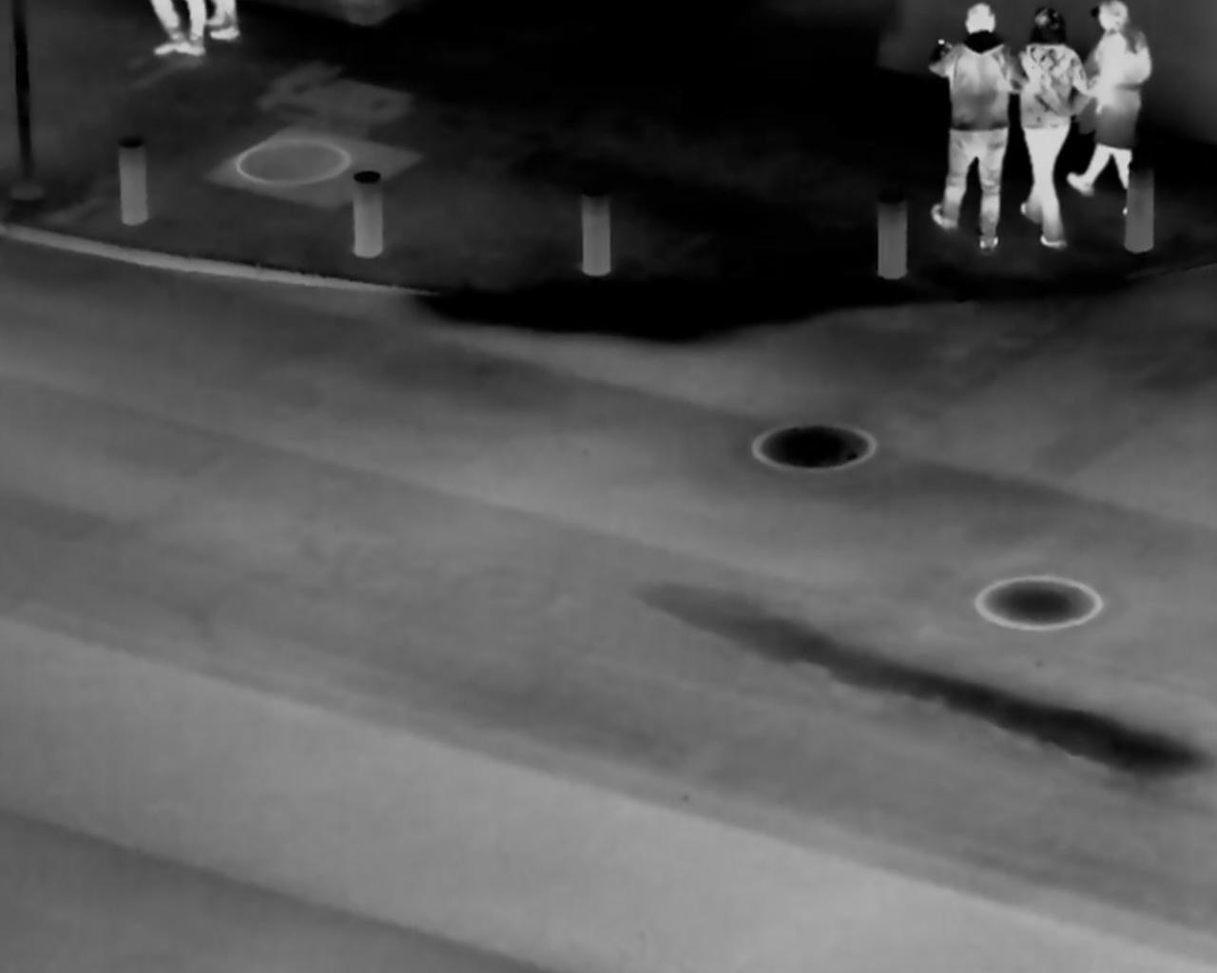person: (934, 8, 1014, 242), (1016, 5, 1086, 248), (1088, 9, 1152, 208)
